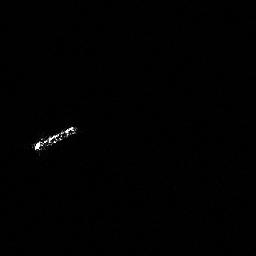ship: (30, 123, 80, 157)
